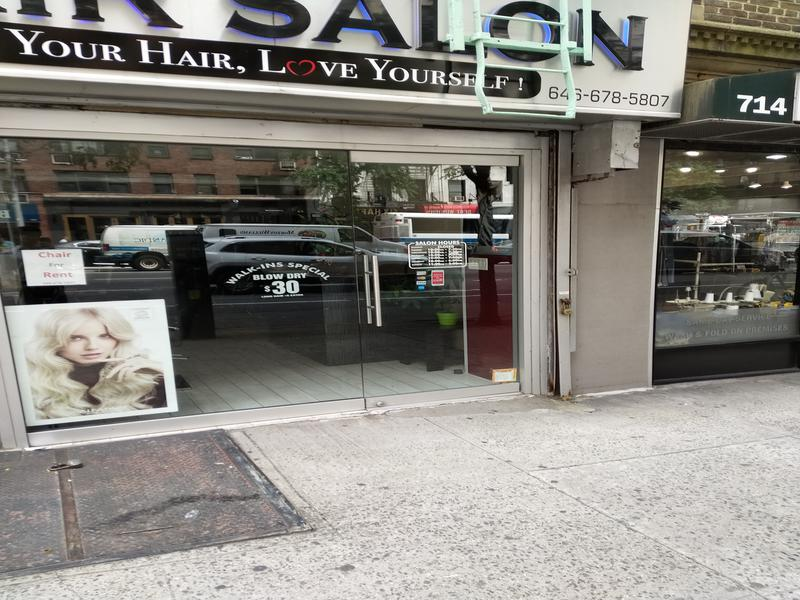door: (342, 146, 547, 410)
